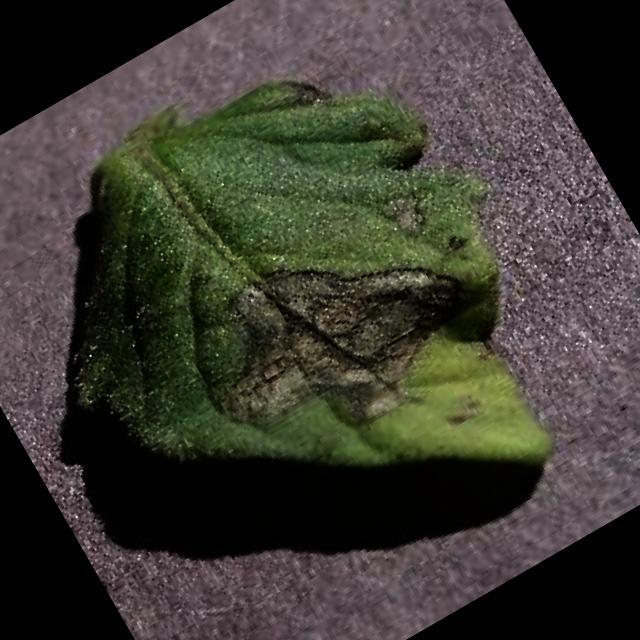Tomato Early blight leaf: (0, 6, 603, 640)
